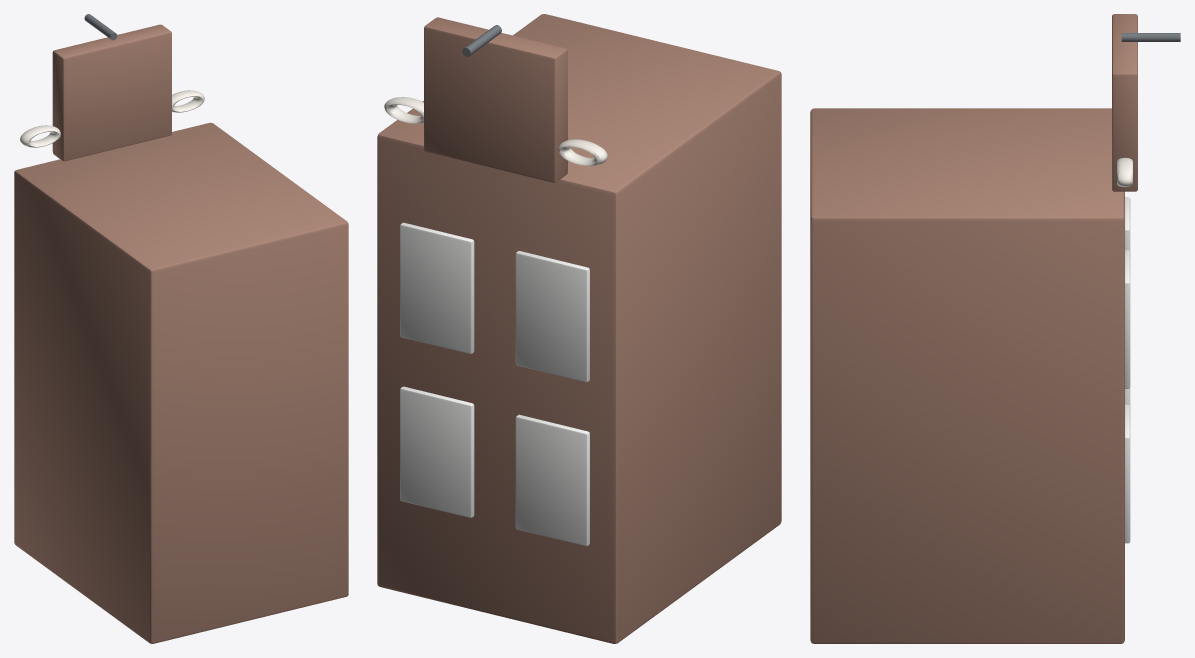
The model's file is canal-house-neck-gable.glb.
The picture shows the model from 3 angles, left to right: view 1: azimuth 30°, elevation 25°; view 2: azimuth 150°, elevation 25°; view 3: azimuth 270°, elevation 25°; orthographic projection. The views are drawn at different scales.
Parts seen in each view (by area): view 1: neck_MainBrickBody, neck_GableNeck, neck_AcanthusScroll_-1, neck_AcanthusScroll_1; view 2: neck_MainBrickBody, neck_GableNeck, neck_Window_0.48_1.2, neck_Window_0.48_2.5, neck_Window_-0.48_1.2, neck_Window_-0.48_2.5, neck_AcanthusScroll_-1, neck_AcanthusScroll_1; view 3: neck_MainBrickBody, neck_GableNeck, neck_Window_0.48_1.2, neck_Window_0.48_2.5, neck_HoistBeam.
Part boxes in pixels (x1,y1,x2,y2): neck_MainBrickBody: (14, 122, 348, 643); neck_GableNeck: (52, 24, 171, 161); neck_AcanthusScroll_-1: (20, 125, 60, 147); neck_AcanthusScroll_1: (172, 90, 204, 112); neck_MainBrickBody: (377, 14, 781, 643); neck_GableNeck: (424, 17, 567, 182); neck_Window_0.48_1.2: (400, 386, 474, 517); neck_Window_0.48_2.5: (400, 222, 474, 353); neck_Window_-0.48_1.2: (515, 414, 589, 546); neck_Window_-0.48_2.5: (515, 251, 589, 382); neck_AcanthusScroll_-1: (558, 139, 607, 166); neck_AcanthusScroll_1: (384, 97, 423, 123); neck_MainBrickBody: (810, 108, 1124, 643); neck_GableNeck: (1112, 14, 1137, 191); neck_Window_0.48_1.2: (1125, 404, 1130, 543); neck_Window_0.48_2.5: (1125, 250, 1130, 388); neck_HoistBeam: (1121, 33, 1180, 41).
Bounding box in the file's own units: 2 × 4.69 × 2.83.
